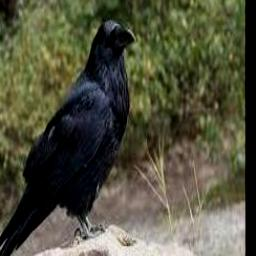Crow: (0, 18, 137, 256)
